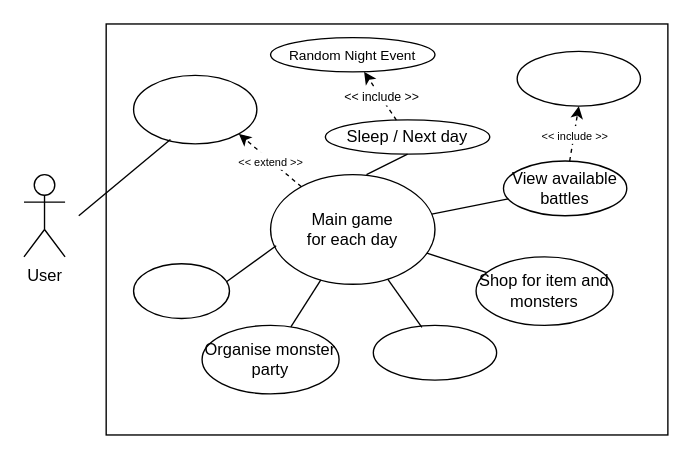
Image size: 692x459. Some labels were removed from this diagram. The shapes that lost their labels are listed below. From the top down, each one's box as (x1, y1, x2, y2) in pixels, then its label:
(516, 50, 640, 106): Battle
(132, 74, 257, 144): Setup the game
(132, 262, 229, 319): View gold amount
(372, 324, 497, 380): Organise inventory
